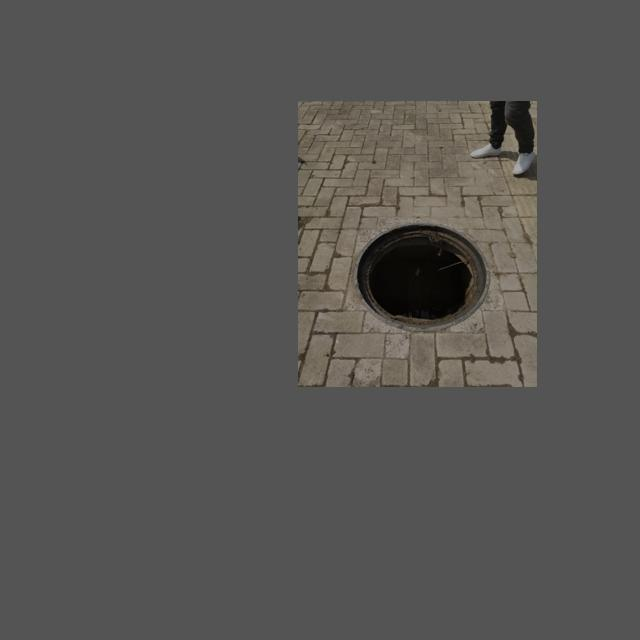lose: (354, 222, 491, 331)
